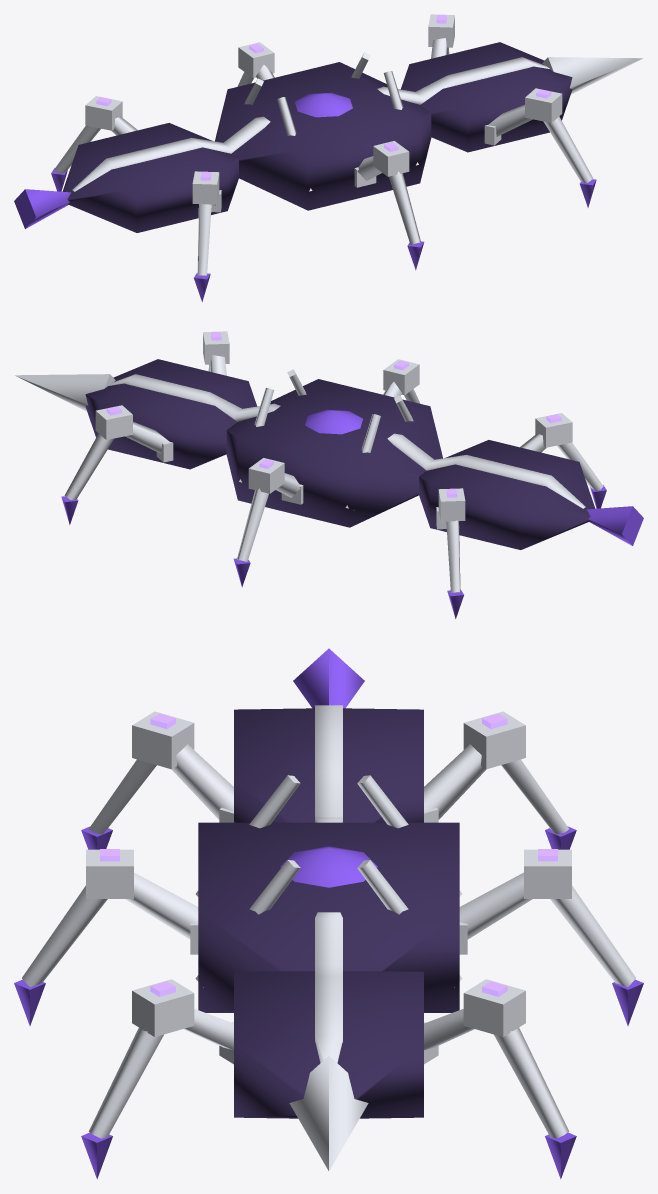
File: acolyte-hadron.glb
3 views of the same model, one above another, from view 1: azimuth 30°, elevation 25°; view 2: azimuth 150°, elevation 25°; view 3: azimuth 270°, elevation 25° (orthographic). The views are drawn at different scales.
Visible parts, largest first — view 1: segment_1, segment_2, segment_0, spine_aft, spine_fore, bow_prism, drive_prism, listening_dome, limb_0_s_tibia, limb_0_s_knee, limb_1_s_knee, limb_1_s_tibia (+7 smaller); view 2: segment_1, segment_2, segment_0, spine_aft, spine_fore, bow_prism, drive_prism, listening_dome, limb_0_p_tibia, limb_0_p_knee, limb_1_p_knee, limb_1_p_tibia (+7 smaller); view 3: segment_1, segment_0, segment_2, bow_prism, spine_fore, spine_aft, limb_0_s_tibia, limb_0_p_tibia, limb_0_s_knee, limb_0_p_knee, drive_prism, listening_dome (+20 smaller).
Boxes of the visible parts, x1,y1,x2,y2 form: segment_1: (215,62,431,210); segment_2: (62,123,238,232); segment_0: (400,42,572,152); spine_aft: (72,116,270,191); spine_fore: (377,57,549,104); bow_prism: (542,57,642,94); drive_prism: (14,189,70,228); listening_dome: (295,92,352,117); limb_0_s_tibia: (543,116,593,183); limb_0_s_knee: (525,88,562,122); limb_1_s_knee: (373,141,409,176); limb_1_s_tibia: (389,171,420,244); segment_1: (226,379,442,527); segment_2: (419,440,595,549); segment_0: (85,359,257,469); spine_aft: (387,433,585,508); spine_fore: (108,374,280,421); bow_prism: (15,374,115,411); drive_prism: (587,506,643,545); listening_dome: (305,409,362,434); limb_0_p_tibia: (64,433,114,500); limb_0_p_knee: (95,405,132,439); limb_1_p_knee: (248,458,284,493); limb_1_p_tibia: (237,488,268,561); segment_1: (198,822,459,1012); segment_0: (234,971,423,1118); segment_2: (234,708,423,822); bow_prism: (289,1056,368,1170); spine_fore: (315,912,342,1062); spine_aft: (315,705,342,822); limb_0_s_tibia: (88,1027,163,1138); limb_0_p_tibia: (494,1027,569,1138); limb_0_s_knee: (132,979,194,1036); limb_0_p_knee: (463,979,525,1036); drive_prism: (293,648,364,708); listening_dome: (280,846,377,887).
Bounding box in the file's own units: 58 × 11.53 × 31.47.
